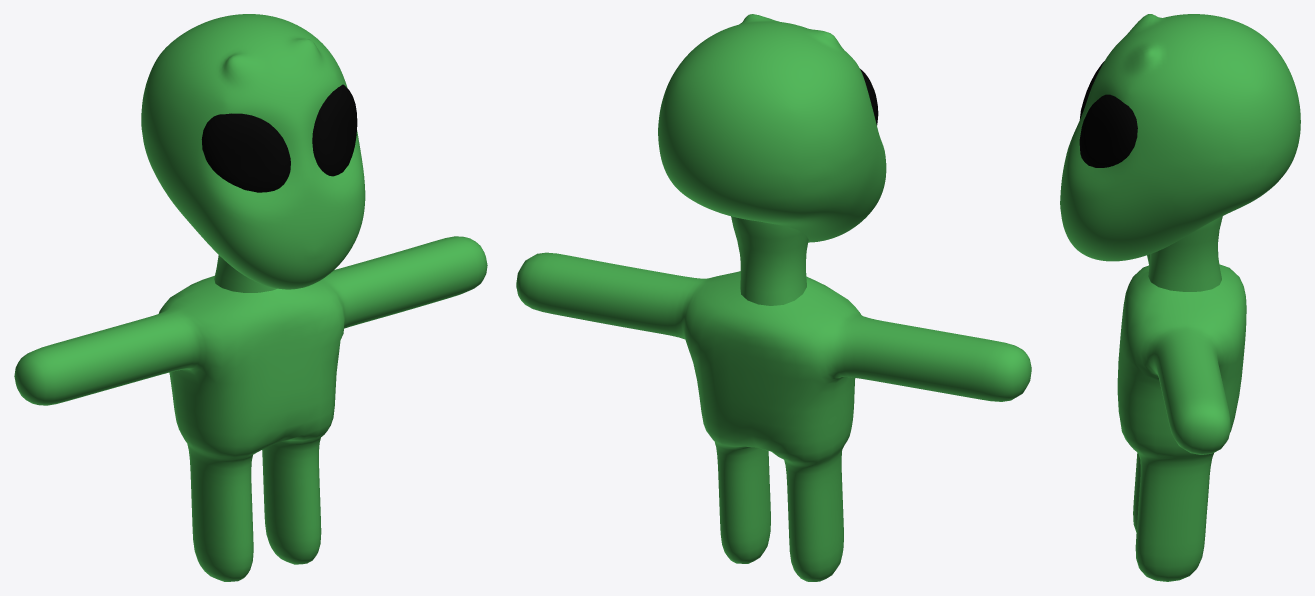
File: sithoutskeleton.fbx
3 renders of one model, left to right at view 1: azimuth 30°, elevation 25°; view 2: azimuth 150°, elevation 25°; view 3: azimuth 270°, elevation 25°, orthographic.
Visible parts, largest first — view 1: Sphere.001; view 2: Sphere.001; view 3: Sphere.001.
Boxes of the visible parts, bbox=[...] form: Sphere.001: bbox=[14, 14, 487, 581]; Sphere.001: bbox=[516, 14, 1031, 581]; Sphere.001: bbox=[1060, 14, 1300, 581].
Bounding box in the file's own units: 416 × 443 × 180.
